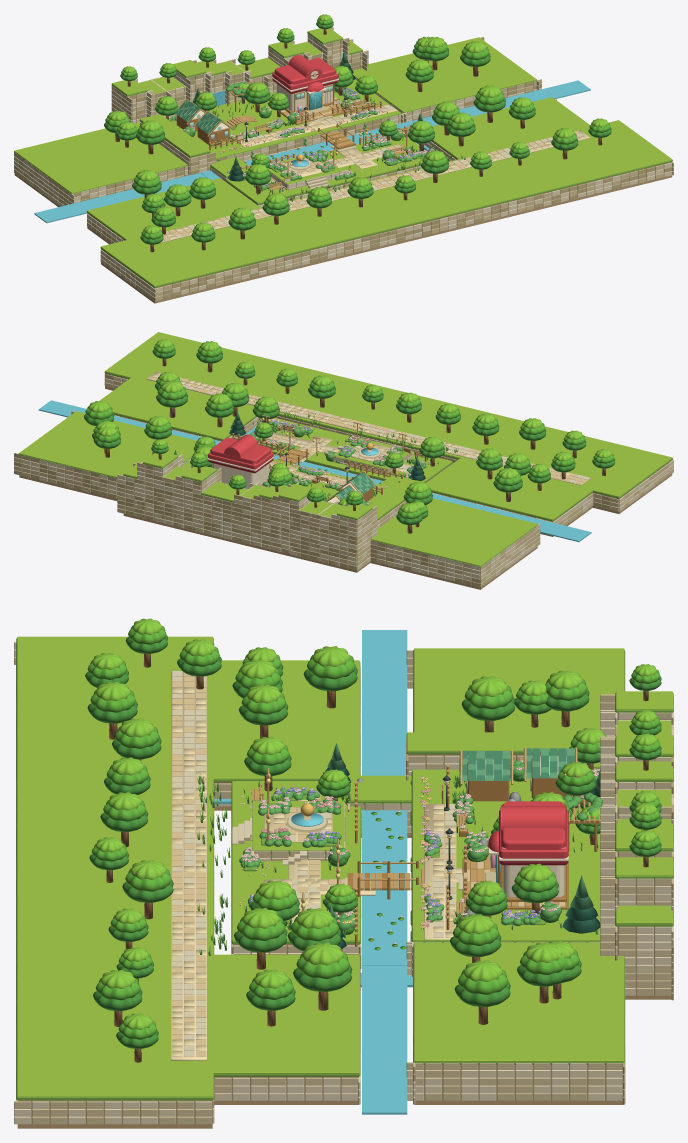
File: town.glb
3 views of the same model, one above another, from view 1: azimuth 30°, elevation 25°; view 2: azimuth 150°, elevation 25°; view 3: azimuth 270°, elevation 25° (orthographic). The views are drawn at different scales.
Visible parts, largest first — view 1: Town_grass, Town_stoneLight, Town_stone, Town_leafLight, Town_leafDark, Town_leaf, Town_stoneDark, Town_water, Town_earth, Town_grassEdge, Town_sand, Town_hedge (+10 smaller); view 2: Town_grass, Town_stoneLight, Town_stone, Town_stoneDark, Town_leafLight, Town_leaf, Town_leafDark, Town_earth, Town_sand, Town_water, Town_grassEdge, Town_hedge (+8 smaller); view 3: Town_grass, Town_stoneLight, Town_leafLight, Town_water, Town_leaf, Town_leafDark, Town_stone, Town_sand, Town_hedge, Town_path, Town_grassEdge, Town_earth (+13 smaller).
Part boxes in pixels (bbox=[...]): Town_grass: bbox=[14, 28, 672, 286]; Town_stoneLight: bbox=[14, 34, 673, 297]; Town_stone: bbox=[14, 27, 673, 301]; Town_leafLight: bbox=[108, 14, 608, 234]; Town_leafDark: bbox=[104, 21, 611, 244]; Town_leaf: bbox=[105, 17, 610, 239]; Town_stoneDark: bbox=[73, 37, 672, 298]; Town_water: bbox=[34, 80, 590, 223]; Town_earth: bbox=[14, 44, 672, 303]; Town_grassEdge: bbox=[14, 32, 672, 287]; Town_sand: bbox=[159, 104, 589, 243]; Town_hedge: bbox=[169, 82, 465, 201]; Town_grass: bbox=[19, 332, 672, 566]; Town_stoneLight: bbox=[22, 374, 673, 580]; Town_stone: bbox=[14, 378, 673, 587]; Town_stoneDark: bbox=[14, 374, 610, 587]; Town_leafLight: bbox=[89, 339, 611, 513]; Town_leaf: bbox=[85, 343, 614, 519]; Town_leafDark: bbox=[84, 349, 615, 525]; Town_earth: bbox=[19, 373, 672, 589]; Town_sand: bbox=[146, 371, 590, 485]; Town_water: bbox=[38, 400, 591, 541]; Town_grassEdge: bbox=[19, 372, 672, 567]; Town_hedge: bbox=[210, 411, 458, 505]; Town_grass: bbox=[17, 636, 672, 1097]; Town_stoneLight: bbox=[14, 641, 673, 1124]; Town_leafLight: bbox=[92, 618, 657, 1029]; Town_water: bbox=[214, 630, 412, 1114]; Town_leaf: bbox=[87, 625, 660, 1039]; Town_leafDark: bbox=[85, 635, 661, 1048]; Town_stone: bbox=[14, 643, 673, 1124]; Town_sand: bbox=[171, 671, 462, 1060]; Town_hedge: bbox=[198, 760, 602, 955]; Town_path: bbox=[172, 672, 565, 1056]; Town_grassEdge: bbox=[16, 638, 673, 1100]; Town_earth: bbox=[17, 713, 671, 1128].
Bounding box in the file's own units: 82 × 11.22 × 47.38.
